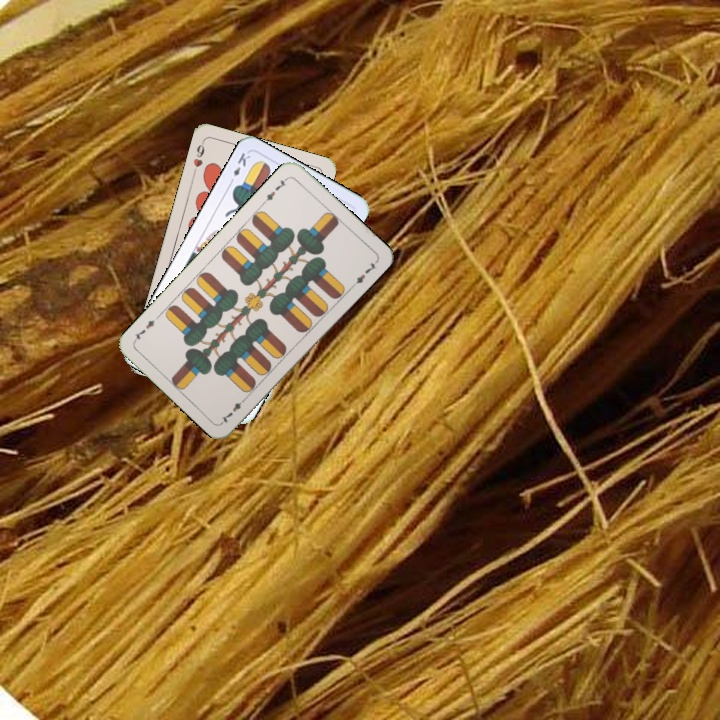E7: (259, 173, 291, 206), (217, 393, 250, 425)
EK: (225, 149, 253, 187)
H9: (189, 138, 207, 177)
